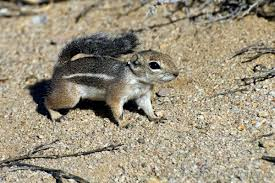Ardilla: (37, 32, 185, 136)
